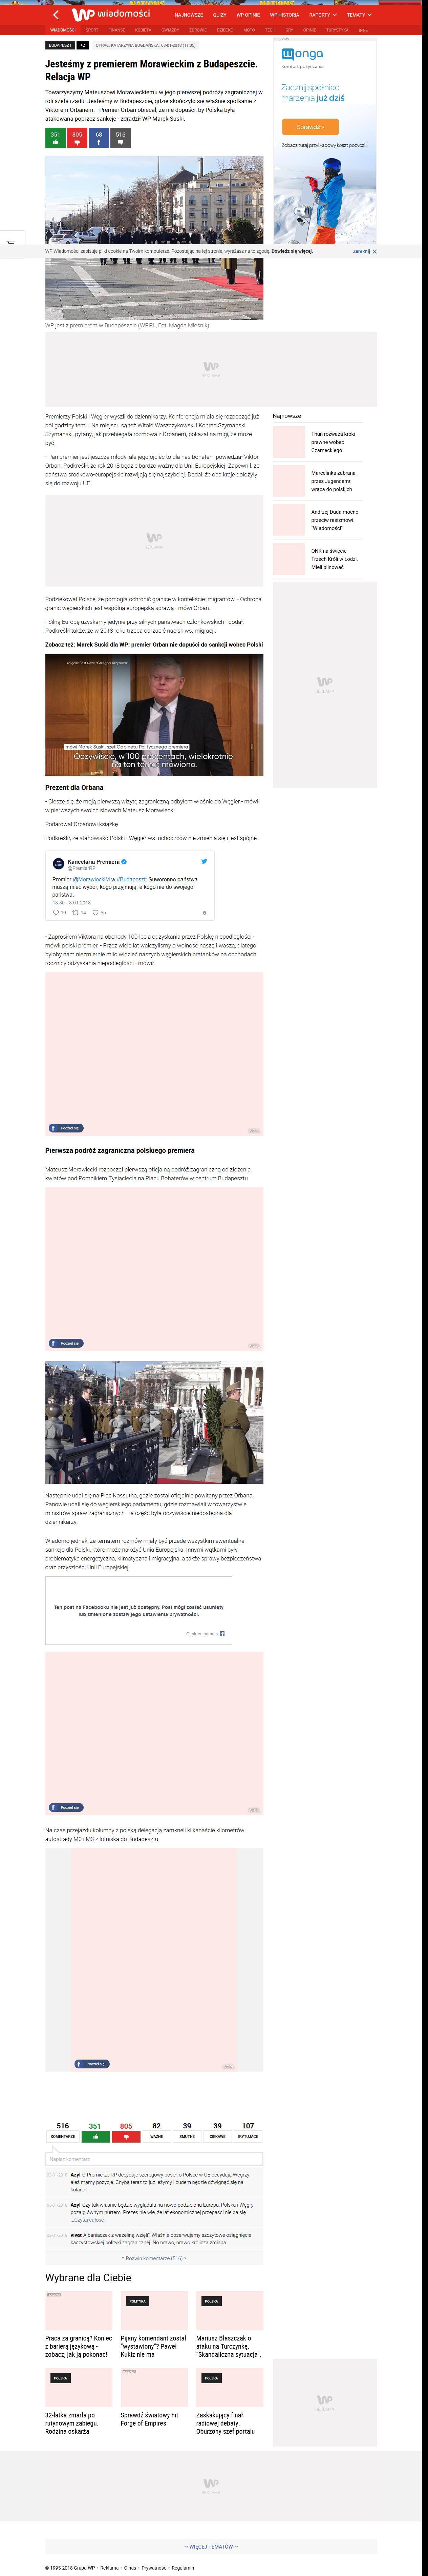title: (46, 59, 257, 82)
